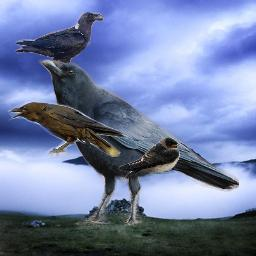Crow: (38, 59, 239, 229), (7, 99, 128, 157), (15, 12, 105, 86)
Swallow: (119, 137, 181, 179)
